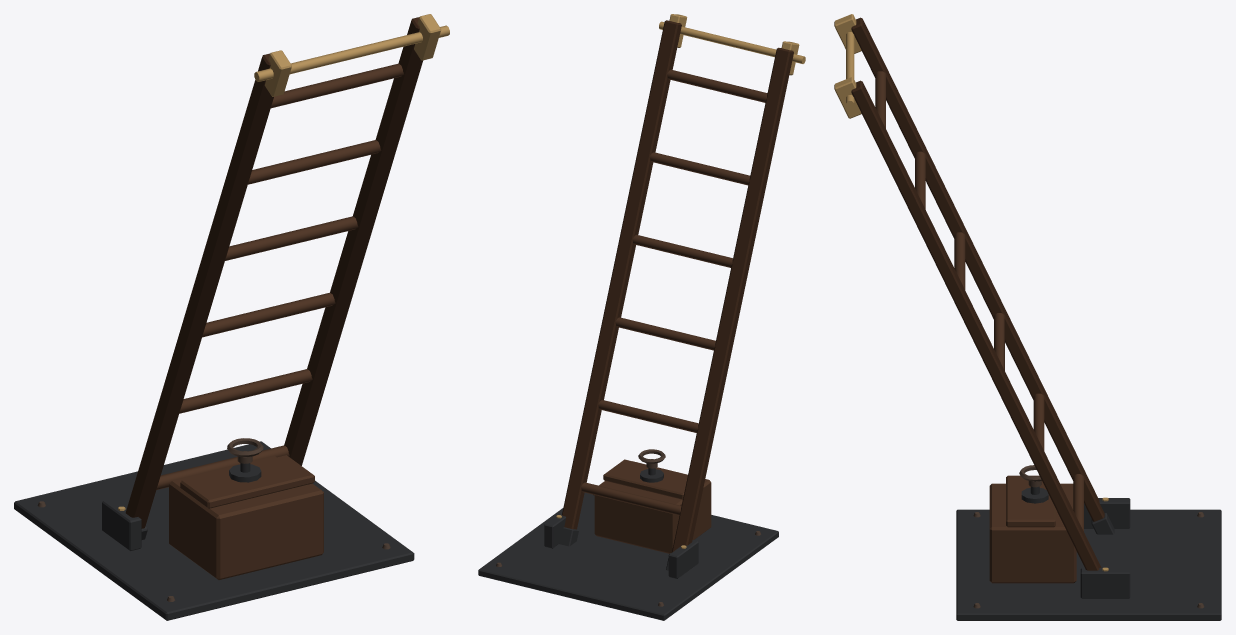
File: stair_wedge.glb
3 views of the same model, side by side, from view 1: azimuth 30°, elevation 25°; view 2: azimuth 150°, elevation 25°; view 3: azimuth 270°, elevation 25° (orthographic). The views are drawn at different scales.
Parts seen in each view (by area): view 1: IA_wedge_ladder, wedge_body, IA_wedge_chock, IA_wedge_pin; view 2: IA_wedge_ladder, wedge_body, IA_wedge_chock; view 3: wedge_body, IA_wedge_ladder, IA_wedge_chock.
Boxes of the visible parts, x1=… form: IA_wedge_ladder: x1=125, y1=14, x2=449, y2=539; wedge_body: x1=14, y1=441, x2=414, y2=620; IA_wedge_chock: x1=169, y1=455, x2=323, y2=579; IA_wedge_pin: x1=227, y1=438, x2=263, y2=472; IA_wedge_ladder: x1=559, y1=14, x2=805, y2=570; wedge_body: x1=478, y1=492, x2=778, y2=620; IA_wedge_chock: x1=594, y1=459, x2=711, y2=553; wedge_body: x1=956, y1=497, x2=1221, y2=620; IA_wedge_ladder: x1=834, y1=14, x2=1114, y2=570; IA_wedge_chock: x1=989, y1=475, x2=1076, y2=583.
Bounding box in the file's own units: 0.6 × 1.39 × 0.9346.
